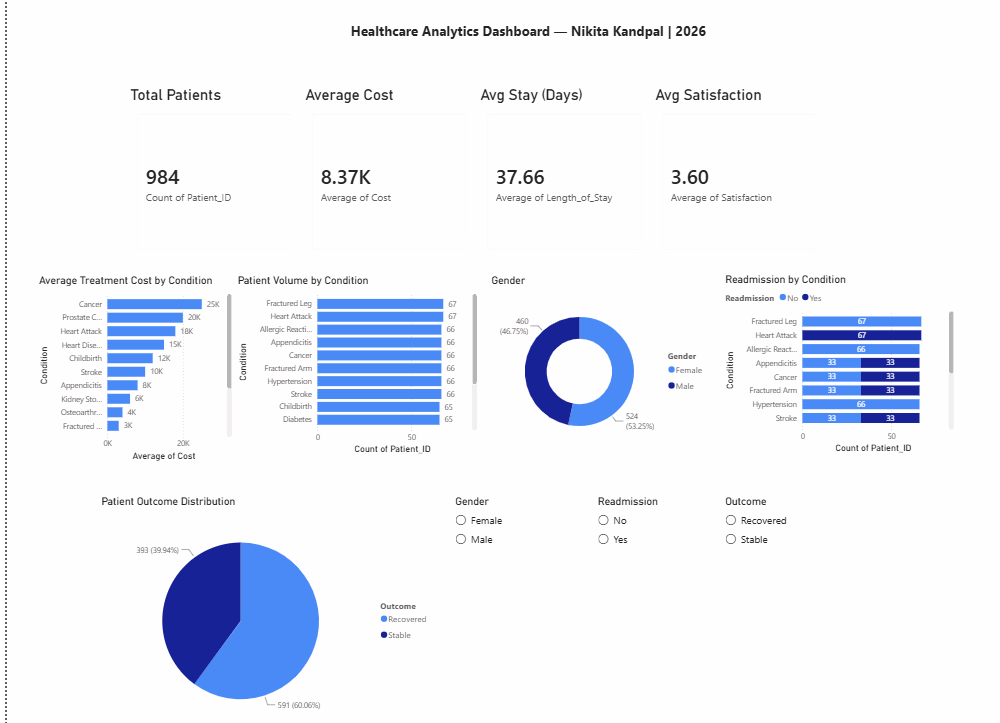

Layout of this report page (visuals, bound fields, positions):
{"tool":"powerbi","page":{"name":"Page 1","canvas":[1600,1200],"ordinal":0},"visuals":[{"type":"cardVisual","title":"Total Patients","fields":{"Data":["CountNonNull(hospital data analysis (2).Patient_ID)"]},"box":[192.2,138.5,280,280],"z":0},{"type":"cardVisual","title":"Average Cost","fields":{"Data":["Avg(hospital data analysis (2).Cost)"]},"box":[472.3,138.5,280,280],"z":1000},{"type":"cardVisual","title":"Avg Stay (Days)","fields":{"Data":["Avg(hospital data analysis (2).Length_of_Stay)"]},"box":[752.3,138.5,280,280],"z":2000},{"type":"cardVisual","title":"Avg Satisfaction","fields":{"Data":["Avg(hospital data analysis (2).Satisfaction)"]},"box":[1031.8,138.5,280,280],"z":3000},{"type":"clusteredBarChart","title":"Average Treatment Cost by Condition","fields":{"Category":["hospital data analysis (2).Condition"],"Y":["Avg(hospital data analysis (2).Cost)"]},"box":[45.6,437.3,319.1,304.3],"z":4000},{"type":"clusteredBarChart","title":"Patient Volume by Condition","fields":{"Y":["CountNonNull(hospital data analysis (2).Patient_ID)"],"Category":["hospital data analysis (2).Condition"]},"box":[364.9,437.8,393.3,293.3],"z":5000},{"type":"donutChart","title":"Gender ","fields":{"Y":["CountNonNull(hospital data analysis (2).Patient_ID)"],"Category":["hospital data analysis (2).Gender"]},"box":[769.9,437.8,313.3,293.3],"z":6000},{"type":"barChart","title":"Readmission by Condition","fields":{"Category":["hospital data analysis (2).Condition"],"Y":["CountNonNull(hospital data analysis (2).Patient_ID)"],"Series":["hospital data analysis (2).Readmission"]},"box":[1143.2,436.1,280,293.3],"z":7000},{"type":"pieChart","title":"Patient Outcome Distribution","fields":{"Category":["hospital data analysis (2).Outcome"],"Y":["CountNonNull(hospital data analysis (2).Patient_ID)"]},"box":[172.9,791.3,386.5,382.7],"z":8000},{"type":"listSlicer","fields":{"Values":["hospital data analysis (2).Gender"]},"box":[711.4,791.3,228.8,278.8],"z":8001},{"type":"listSlicer","fields":{"Values":["hospital data analysis (2).Readmission"]},"box":[940.2,791.3,228.8,278.8],"z":8002},{"type":"listSlicer","fields":{"Values":["hospital data analysis (2).Outcome"]},"box":[1144.1,791.3,228.8,278.8],"z":8003},{"type":"textbox","box":[67.3,30.8,1532.7,96.2],"z":8004}]}

Visuals, with their boxes on the page's 1600x1200 design canvas (x1, y1, x2, y2). These are canvas units, not pixel positions in the 1000x723 screenshot, which may show the page scaled, cropped or inside an application window:
"Total Patients" cardVisual: l=192, t=138, r=472, b=418
"Average Cost" cardVisual: l=472, t=138, r=752, b=418
"Avg Stay (Days)" cardVisual: l=752, t=138, r=1032, b=418
"Avg Satisfaction" cardVisual: l=1032, t=138, r=1312, b=418
"Average Treatment Cost by Condition" clusteredBarChart: l=46, t=437, r=365, b=742
"Patient Volume by Condition" clusteredBarChart: l=365, t=438, r=758, b=731
"Gender " donutChart: l=770, t=438, r=1083, b=731
"Readmission by Condition" barChart: l=1143, t=436, r=1423, b=729
"Patient Outcome Distribution" pieChart: l=173, t=791, r=559, b=1174
listSlicer - hospital data analysis (2).Gender: l=711, t=791, r=940, b=1070
listSlicer - hospital data analysis (2).Readmission: l=940, t=791, r=1169, b=1070
listSlicer - hospital data analysis (2).Outcome: l=1144, t=791, r=1373, b=1070
textbox: l=67, t=31, r=1600, b=127
